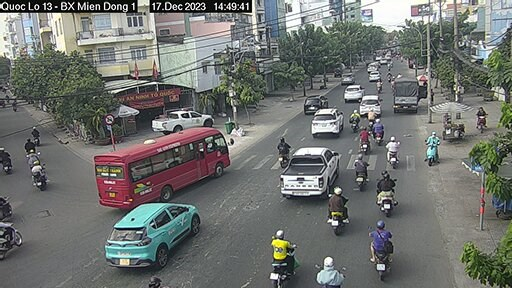car: (76, 125, 235, 205), (101, 203, 202, 268), (288, 139, 330, 204), (301, 112, 341, 142), (146, 111, 231, 125), (307, 90, 327, 115), (360, 96, 383, 115), (344, 85, 364, 104)
motorbike: (259, 214, 309, 287), (365, 221, 397, 280), (329, 184, 353, 252), (308, 245, 341, 288), (378, 171, 398, 235), (384, 136, 404, 167), (354, 152, 367, 181)
truck: (391, 77, 423, 112)
